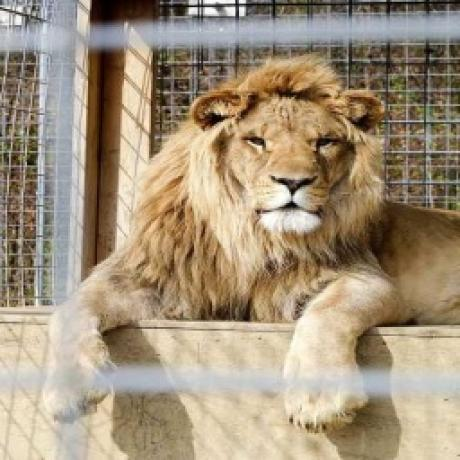Lion: (52, 50, 460, 444)
